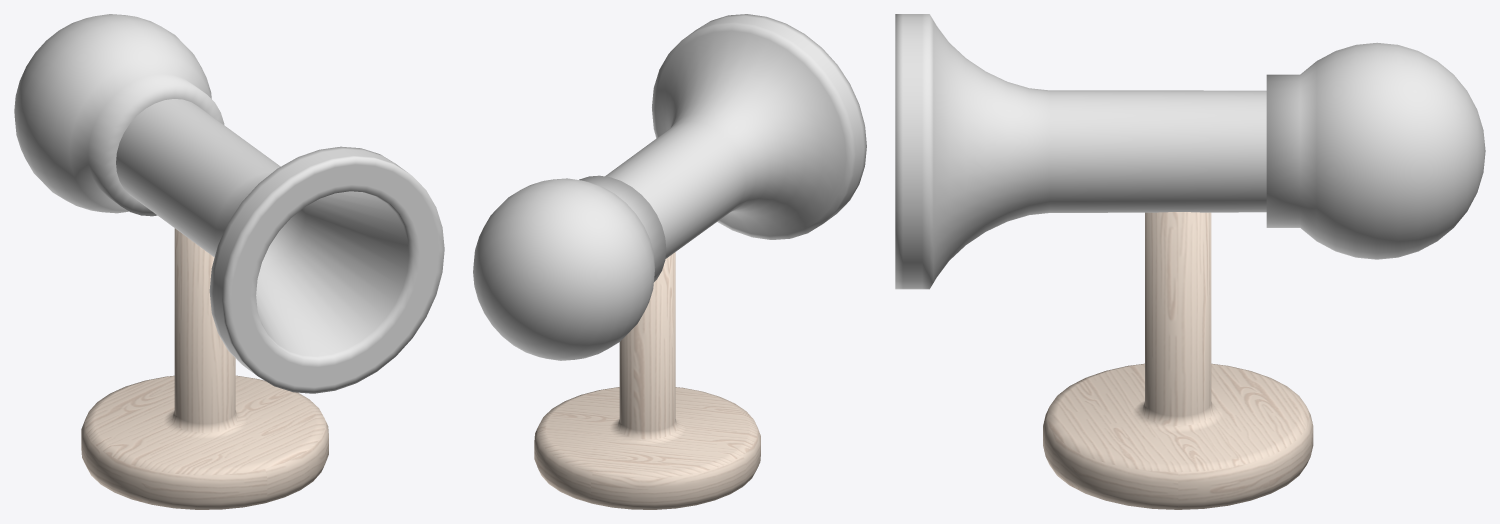
Rendered from Horn.fbx.
3 views of the same model, side by side, from view 1: azimuth 30°, elevation 25°; view 2: azimuth 150°, elevation 25°; view 3: azimuth 270°, elevation 25° (orthographic). The views are drawn at different scales.
Parts seen in each view (by area): view 1: Cylinder.001; view 2: Cylinder.001; view 3: Cylinder.001.
Part boxes in pixels (x1,y1,x2,y2): Cylinder.001: [14, 14, 444, 509]; Cylinder.001: [473, 14, 866, 509]; Cylinder.001: [895, 14, 1485, 509].
Bounding box in the file's own units: 76.13 × 132 × 163.
